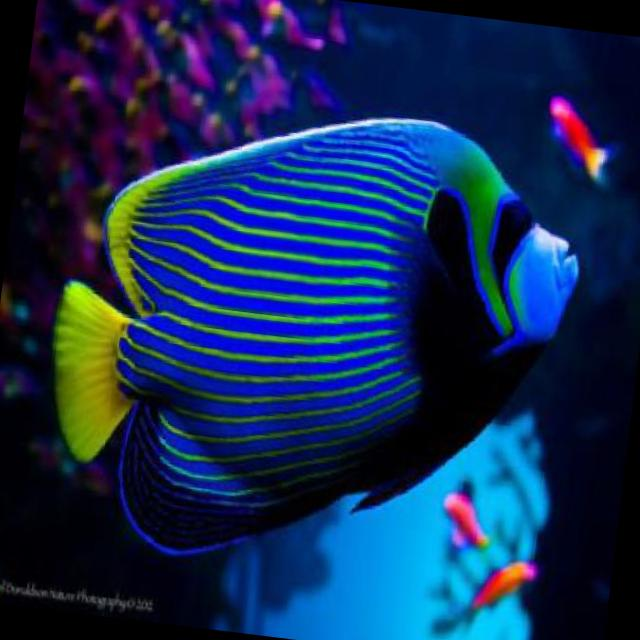AngelFish: (27, 81, 594, 602)
